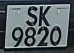0: (49, 25, 62, 46)
2: (37, 26, 49, 47)
8: (24, 27, 36, 47)
9: (11, 26, 24, 48)
K: (37, 5, 53, 26)
S: (26, 5, 38, 26)
